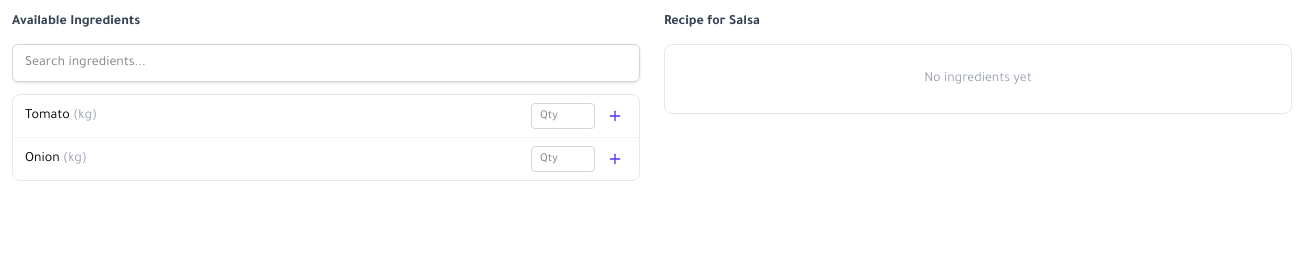
Test case: RecipeBuilder › adds an ingredient to the pending list and shows Save button
This screenshot has width=1304, height=267.
Expected: the text "Tomato (kg)" is shown, [25, 109, 97, 123]
Click add button for Tomato
Click the button titled "Add to recipe" in the row of "Tomato": (615, 116) [603, 104, 627, 128]
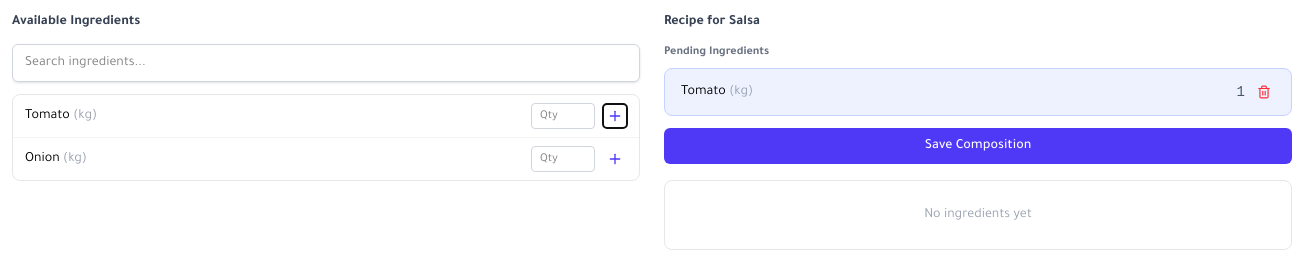
Expected: the button "Save Composition" is shown, [664, 128, 1292, 164]
Expected: the heading "Pending Ingredients" is shown, [664, 46, 769, 58]
